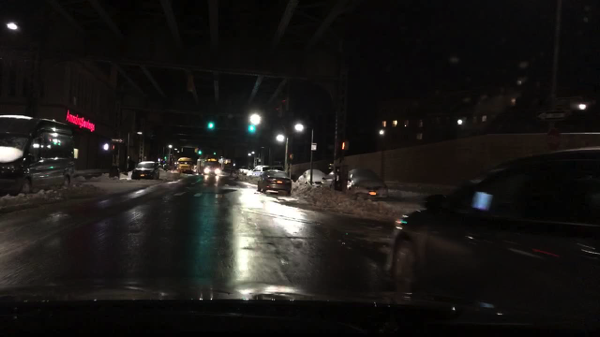bus: (196, 155, 220, 176), (177, 158, 193, 173)
car: (390, 148, 599, 308), (1, 116, 75, 194), (346, 167, 389, 201), (258, 171, 292, 194), (297, 168, 328, 188), (131, 161, 162, 180), (328, 169, 335, 187), (251, 165, 270, 171), (271, 165, 284, 171), (237, 169, 249, 175), (193, 166, 198, 173)
traffic light: (274, 105, 281, 116), (341, 140, 348, 150), (249, 124, 255, 133), (110, 145, 117, 152), (208, 121, 214, 129), (281, 96, 285, 107), (288, 153, 294, 160), (104, 143, 110, 150), (164, 156, 169, 161), (198, 149, 201, 156), (213, 151, 216, 157)
traffic sign: (537, 111, 567, 122), (554, 96, 584, 107), (546, 129, 561, 147), (111, 137, 124, 144), (312, 144, 316, 151)
